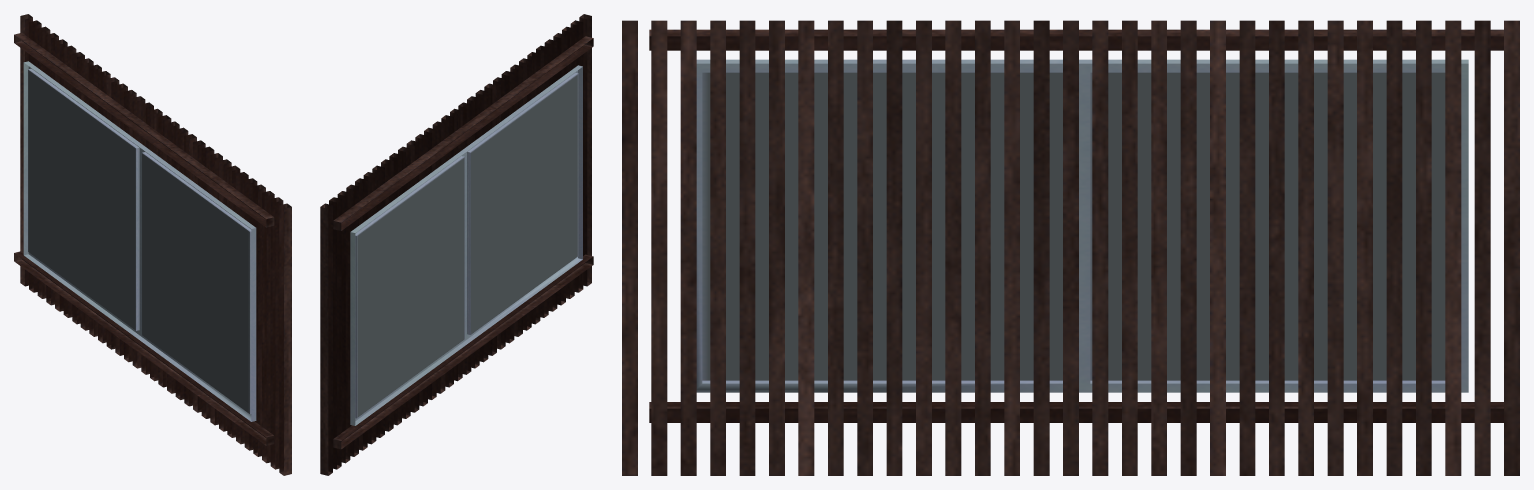
Rendered from KotoHouse_06.fbx.
The picture shows the model from 3 angles, left to right: view 1: azimuth 30°, elevation 25°; view 2: azimuth 150°, elevation 25°; view 3: azimuth 270°, elevation 25°; orthographic projection. The views are drawn at different scales.
Parts seen in each view (by area): view 1: SM_KotoHouse005; view 2: SM_KotoHouse005; view 3: SM_KotoHouse005.
Part boxes in pixels (left/top/right/bottom): SM_KotoHouse005: left=14, top=14, right=291, bottom=475; SM_KotoHouse005: left=320, top=14, right=593, bottom=475; SM_KotoHouse005: left=622, top=20, right=1519, bottom=475.
Size of the model in its own units: 7.31 by 93.95 by 168.
Materials: 1 (1 with a texture image).
